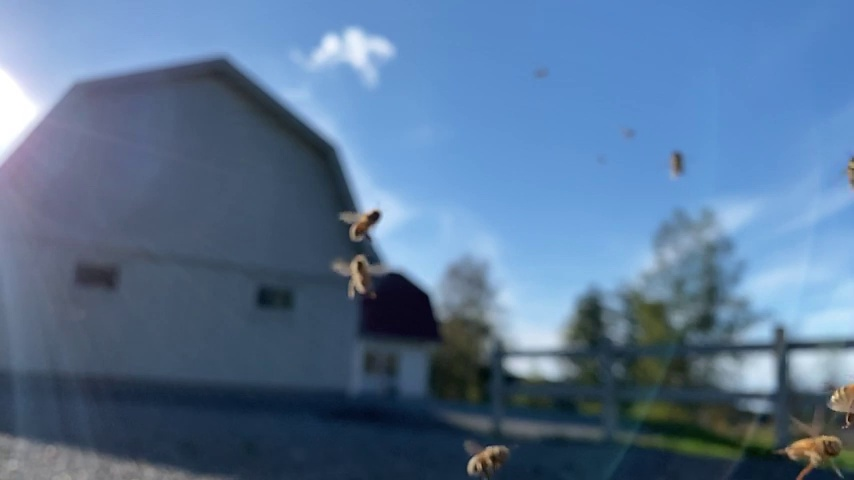insect: (774, 418, 854, 477), (329, 252, 391, 300), (461, 438, 517, 480), (338, 210, 384, 246), (666, 150, 687, 181)
